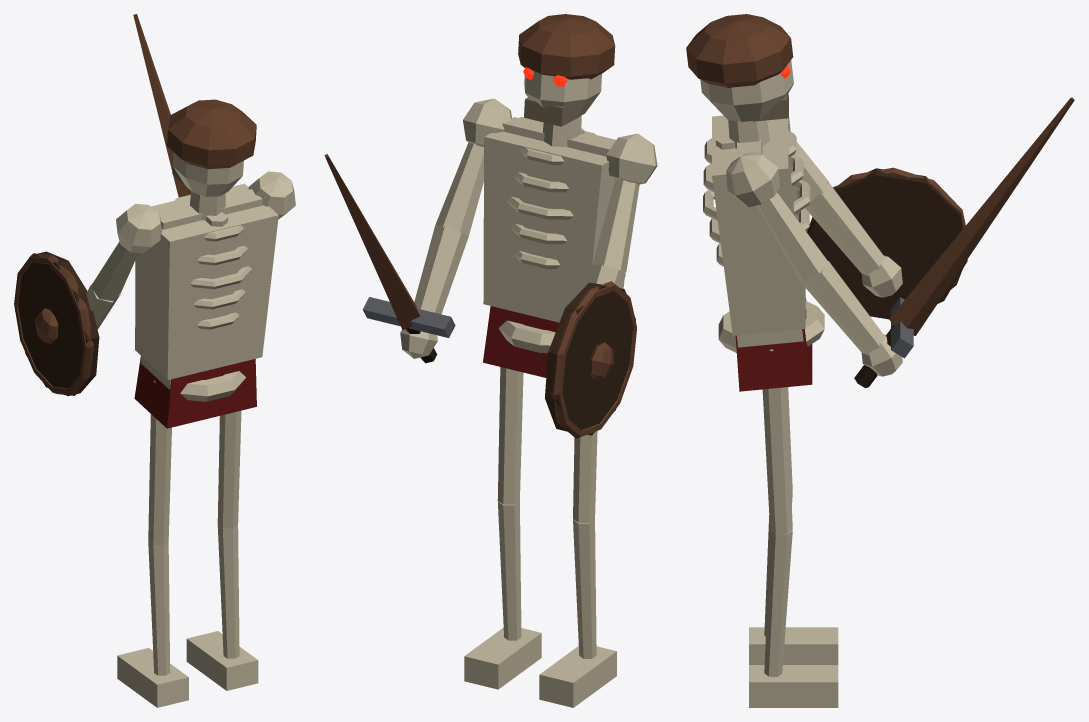
File: skeleton.glb
3 renders of one model, left to right at view 1: azimuth 30°, elevation 25°; view 2: azimuth 150°, elevation 25°; view 3: azimuth 270°, elevation 25°, orthographic. The views are drawn at different scales.
Parts seen in each view (by area): view 1: torso, offhand, leg_l, leg_r, head, arm_l, weapon, arm_r; view 2: torso, offhand, head, leg_r, leg_l, arm_r, arm_l, weapon; view 3: torso, offhand, leg_r, head, arm_r, weapon, arm_l, leg_l.
Boxes of the visible parts, x1,y1,x2,y2 form: torso: (134,183,278,428); offhand: (14,251,99,395); leg_l: (117,414,188,707); leg_r: (186,410,258,690); head: (167,99,256,220); arm_l: (86,203,162,329); weapon: (133,14,191,197); arm_r: (248,171,295,219); torso: (483,116,625,377); offhand: (545,281,636,438); head: (518,14,615,146); leg_r: (464,367,541,689); leg_l: (539,431,616,707); arm_r: (400,98,511,358); arm_l: (586,133,657,288); weapon: (324,154,455,363); torso: (703,115,824,391); offhand: (806,167,967,319); leg_r: (749,387,838,707); head: (686,14,793,148); arm_r: (726,151,902,376); weapon: (854,97,1074,387); arm_l: (794,142,902,297); leg_l: (749,387,838,664).
Size of the model in its own units: 0.6823 by 1.77 by 0.9461.
